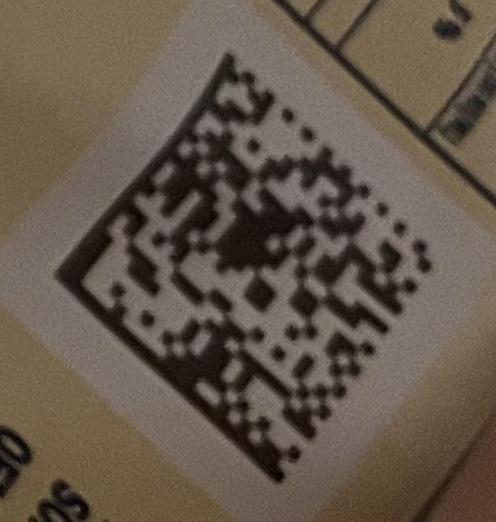datamatrix: (54, 52, 435, 485)
